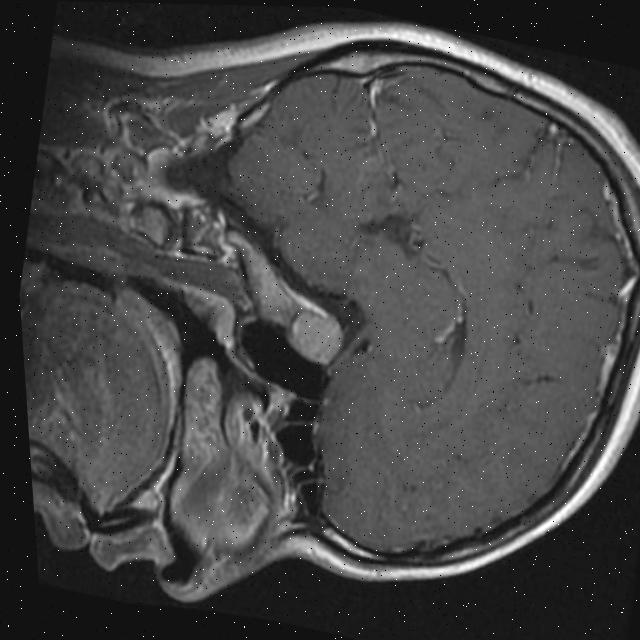Pituitary: (283, 306, 351, 371)
